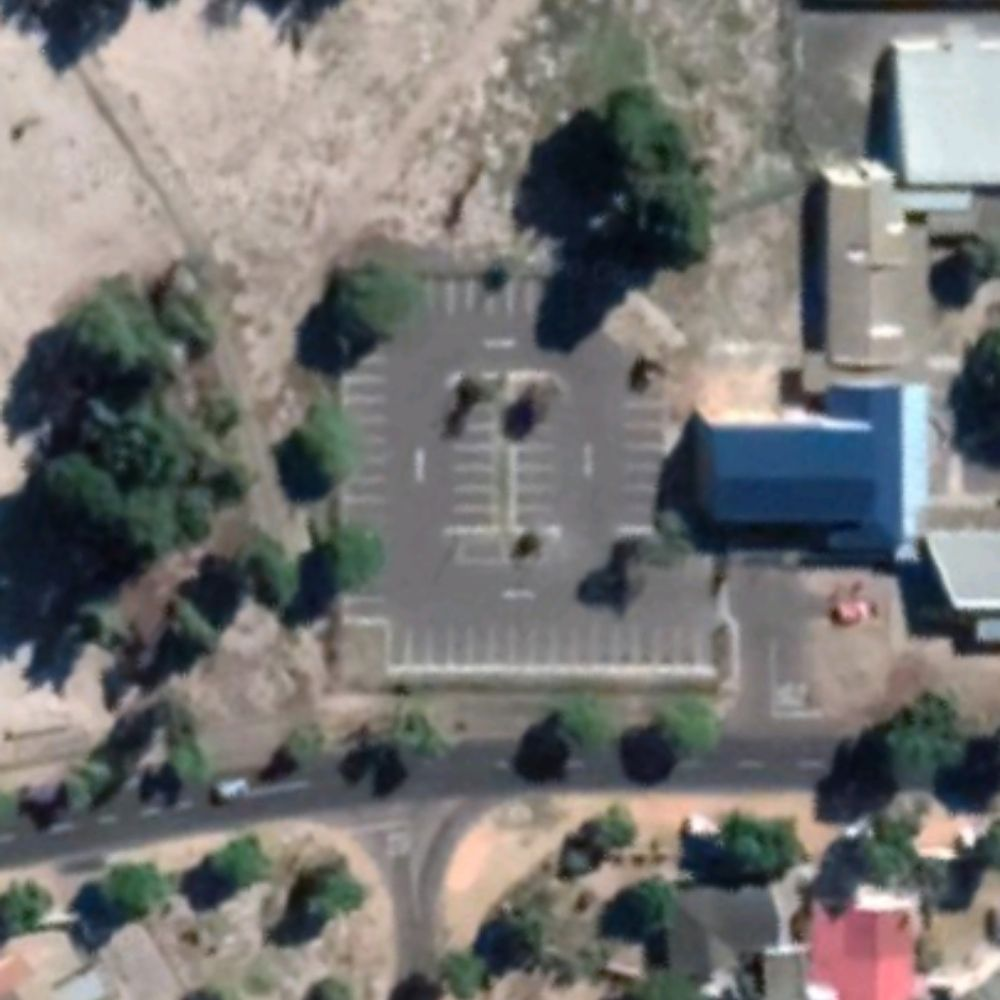parking: (340, 270, 720, 675)
